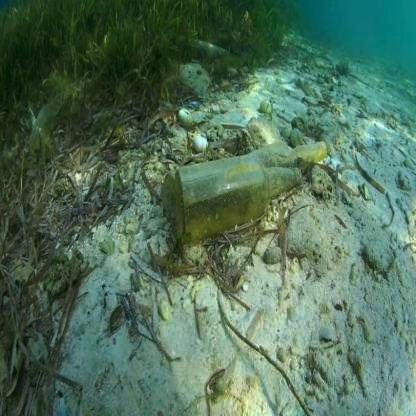gbottle: (163, 135, 328, 245)
